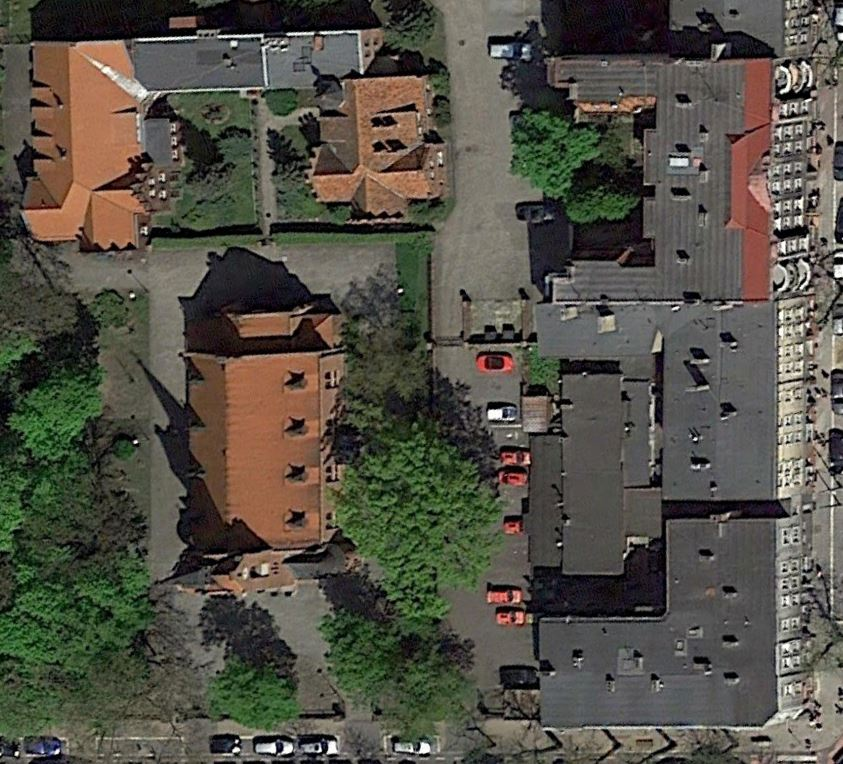block of flats: (476, 44, 831, 739), (18, 31, 465, 244)
church: (150, 283, 375, 610)
